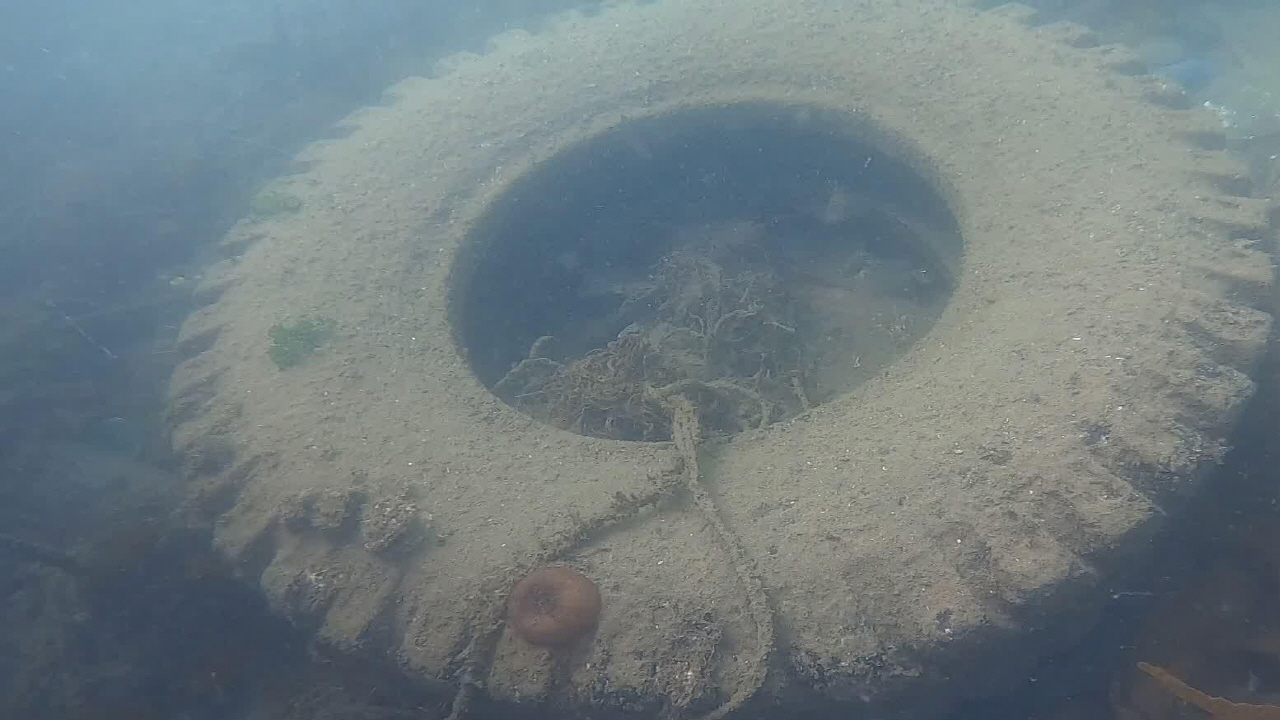bundle of ropes: (442, 371, 778, 720)
tire: (162, 0, 1280, 720)
